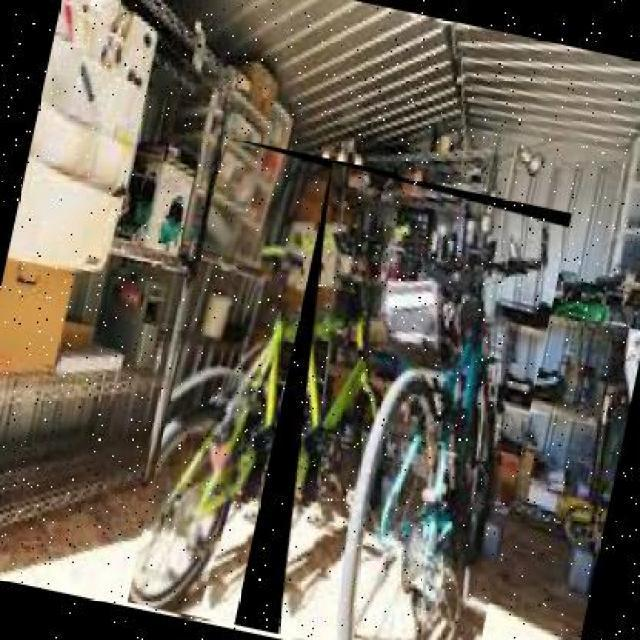bicycle: (235, 163, 575, 640), (127, 138, 403, 640)
